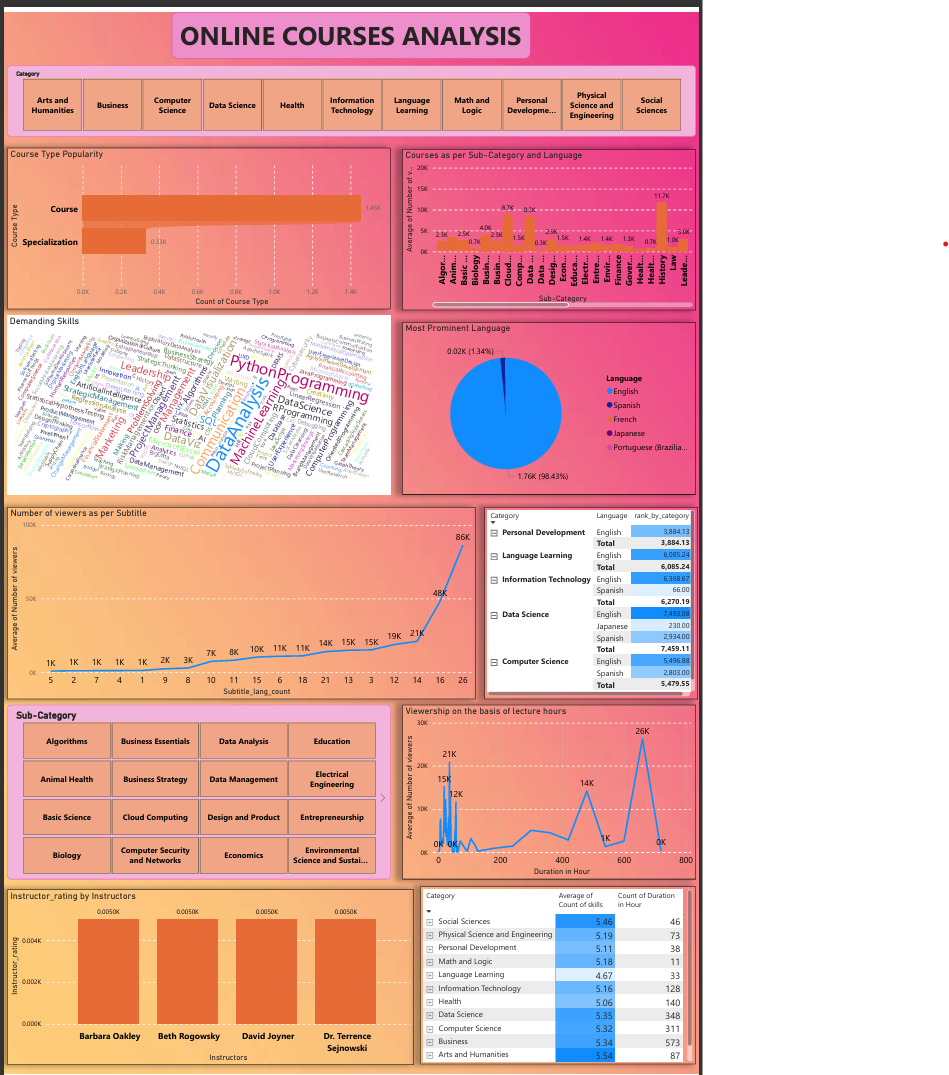

What the dashboard file says about the page in this screenshot:
{"tool":"powerbi","page":{"name":"Page 1","canvas":[1300,1985],"ordinal":0},"visuals":[{"type":"textbox","box":[313.3,0,671.7,86.7],"z":0},{"type":"slicer","fields":{"Values":["Online_Courses.Category"]},"box":[5,100,1290,133.3],"z":1000},{"type":"barChart","title":"Course Type Popularity","fields":{"Category":["Online_Courses.Course Type"],"Y":["Online_Courses.Course Type"]},"box":[5,253.3,718.3,301.7],"z":2000},{"type":"columnChart","title":"Courses as per Sub-Category and Language","fields":{"Category":["Online_Courses.Sub-Category","Online_Courses.Language"],"Y":["Online_Courses.Number of viewers"]},"box":[745,255,550,301.7],"z":3000},{"type":"WordCloud1447959067750","title":"Demanding Skills","fields":{"Category":["Online_Courses.Skills"]},"box":[5,568.3,718.3,335],"z":4000},{"type":"pieChart","title":"Most Prominent Language","fields":{"Category":["Online_Courses.Language"],"Y":["Online_Courses.Course Type"]},"box":[745,580,550,323.3],"z":5000},{"type":"pivotTable","fields":{"Rows":["Online_Courses.Category","Online_Courses.Language"],"Values":["Online_Courses.rank_by_category"]},"box":[900,925,400,360],"z":6000},{"type":"lineChart","title":"Number of viewers as per Subtitle","fields":{"Category":["Online_Courses.Subtitle_lang_count"],"Y":["Online_Courses.Number of viewers"]},"box":[5,925,876.7,360],"z":7000},{"type":"clusteredColumnChart","fields":{"Category":["Teacher.Instructors"],"Y":["Teacher.Instructor_rating"]},"box":[6.7,1641.7,761.7,328.3],"z":8000},{"type":"slicer","fields":{"Values":["Teacher.Sub-Category"]},"box":[6.7,1295,718.3,326.7],"z":9000},{"type":"lineChart","title":"Viewership on the basis of lecture hours","fields":{"Category":["Online_Courses.Duration in Hour"],"Y":["Online_Courses.Number of viewers"]},"box":[745,1295,550,326.7],"z":10000},{"type":"pivotTable","fields":{"Rows":["Online_Courses.Category","Online_Courses.Sub-Category"],"Values":["Online_Courses.Count of skills","Online_Courses.Duration in Hour"]},"box":[780,1636.7,515,333.3],"z":11000}]}

Visuals, with their boxes in screenshot pixels (x1, y1, x2, y2):
textbox: [left=173, top=8, right=532, bottom=55]
slicer - Online_Courses.Category: [left=8, top=62, right=697, bottom=133]
"Course Type Popularity" barChart: [left=8, top=144, right=392, bottom=305]
"Courses as per Sub-Category and Language" columnChart: [left=403, top=145, right=697, bottom=306]
"Demanding Skills" WordCloud1447959067750: [left=8, top=312, right=392, bottom=491]
"Most Prominent Language" pieChart: [left=403, top=318, right=697, bottom=491]
pivotTable - Online_Courses.Category x Online_Courses.Language: [left=486, top=502, right=700, bottom=695]
"Number of viewers as per Subtitle" lineChart: [left=8, top=502, right=476, bottom=695]
clusteredColumnChart - Teacher.Instructors x Teacher.Instructor_rating: [left=9, top=885, right=416, bottom=1061]
slicer - Teacher.Sub-Category: [left=9, top=700, right=393, bottom=875]
"Viewership on the basis of lecture hours" lineChart: [left=403, top=700, right=697, bottom=875]
pivotTable - Online_Courses.Category x Online_Courses.Sub-Category: [left=422, top=883, right=697, bottom=1061]
